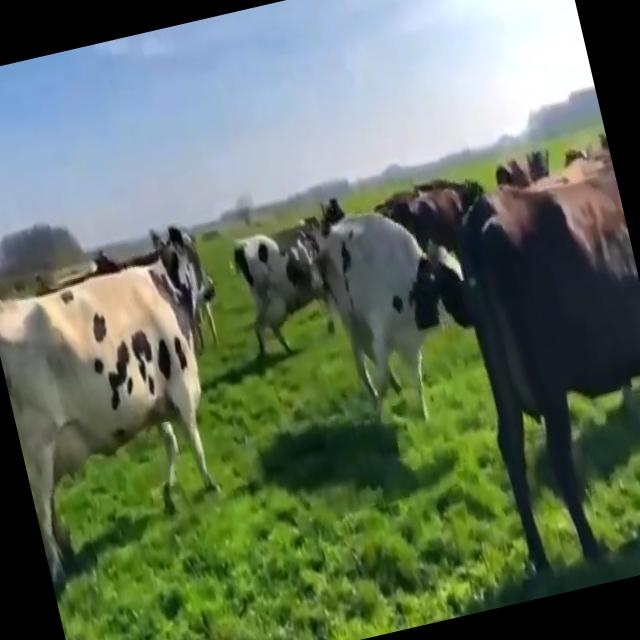cow: (233, 162, 640, 571), (0, 227, 216, 584)
